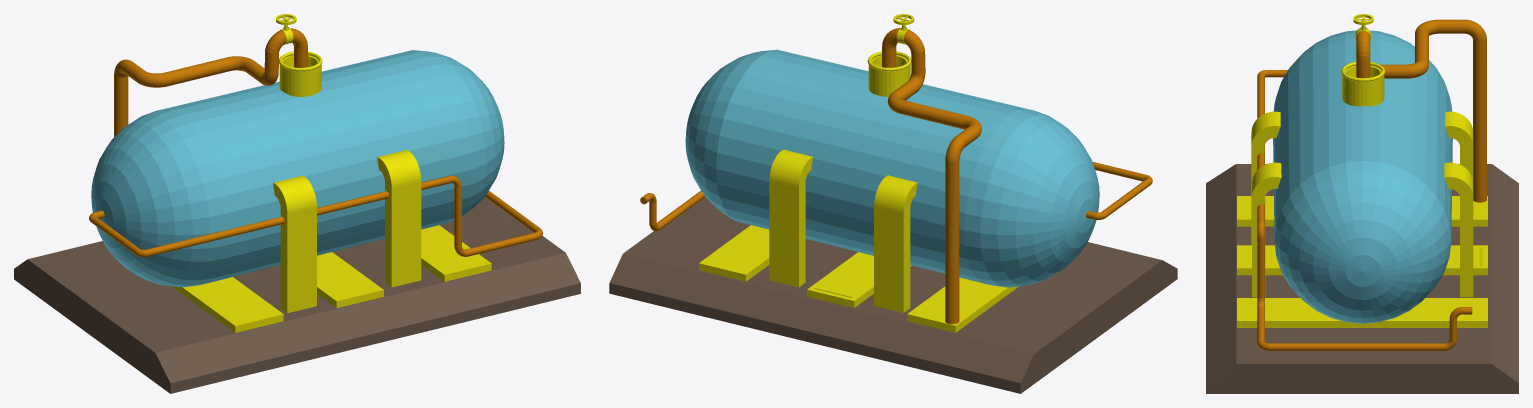
File: gas_chamber_001.fbx
3 views of the same model, side by side, from view 1: azimuth 30°, elevation 25°; view 2: azimuth 150°, elevation 25°; view 3: azimuth 270°, elevation 25° (orthographic).
Visible parts, largest first — view 1: gas chamber.001; view 2: gas chamber.001; view 3: gas chamber.001.
Boxes of the visible parts, x1,y1,x2,y2 form: gas chamber.001: (14,14,580,393); gas chamber.001: (609,14,1177,393); gas chamber.001: (1206,14,1518,393).
Bounding box in the file's own units: 9.02 × 5.62 × 5.89.
